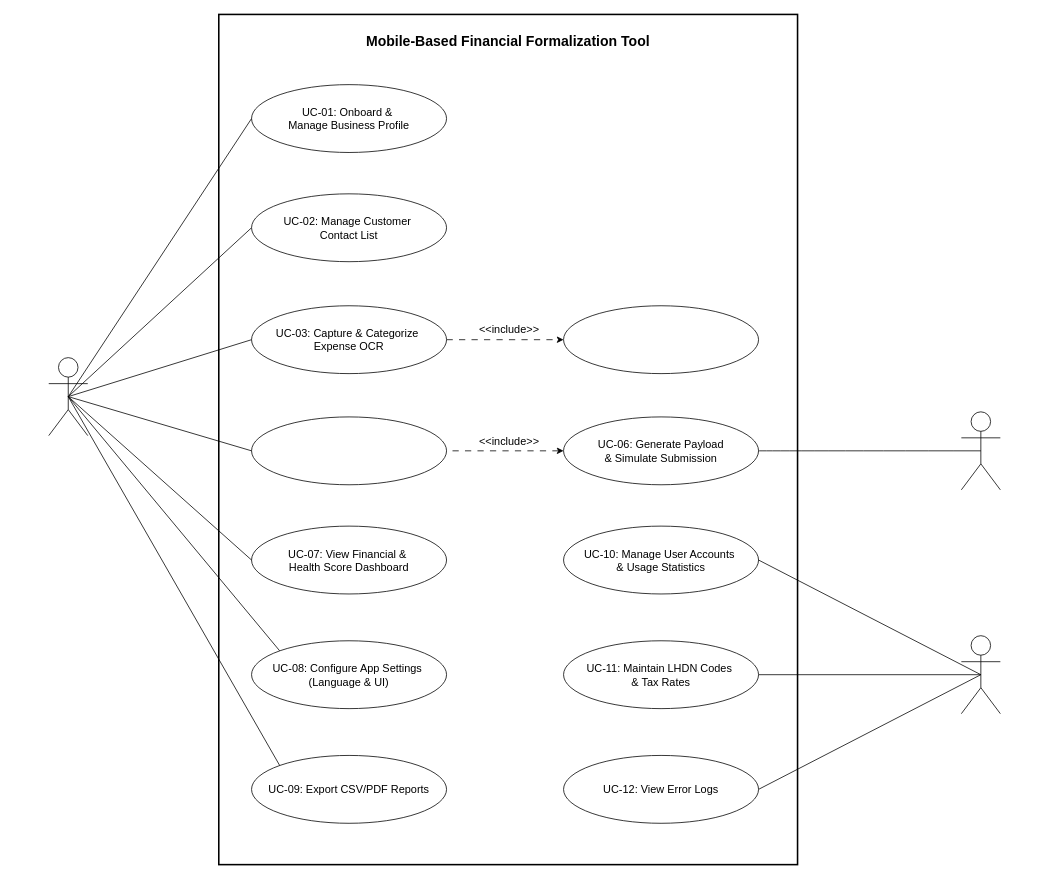
The diagram is 1053 pixels wide and 878 high, and some of its shapes have lost their labels. The centre of each missing label's shape, as x and y in pixels:
Micro-SME Owner / Gig Worker: [68,396]
Mock LHDN Service: [980,450]
System Administrator: [980,674]
UC-04: Extract Data via OCR: [661,339]
UC-05: Record B2B/B2C Sale: [349,450]
